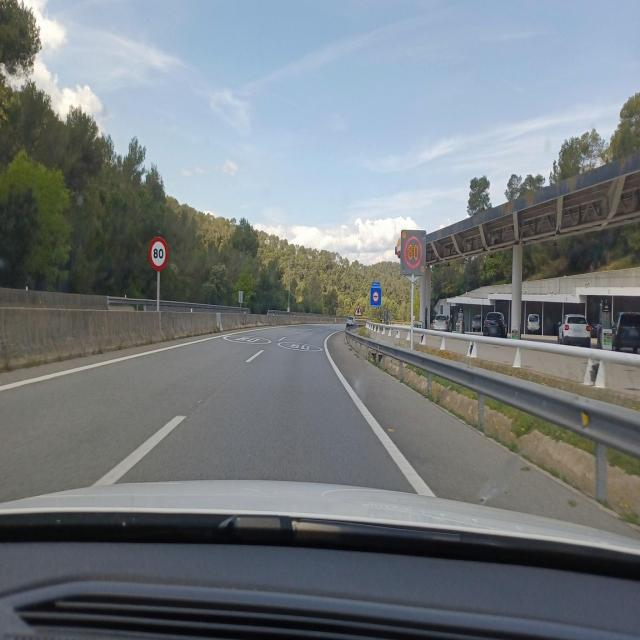car: (611, 311, 640, 354), (557, 313, 591, 348), (484, 311, 506, 337), (432, 315, 451, 331), (345, 317, 355, 331)
